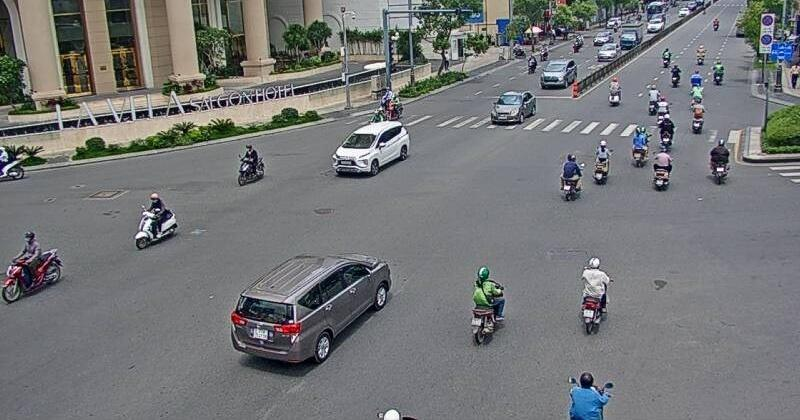xe hoi: (230, 253, 397, 372), (331, 123, 409, 175), (491, 88, 537, 127)
xe may: (0, 227, 62, 302), (467, 263, 508, 344), (577, 254, 612, 336), (133, 192, 175, 245), (559, 153, 583, 201), (651, 144, 674, 191), (708, 137, 730, 186), (236, 145, 262, 186), (592, 138, 613, 187), (631, 125, 648, 167)
